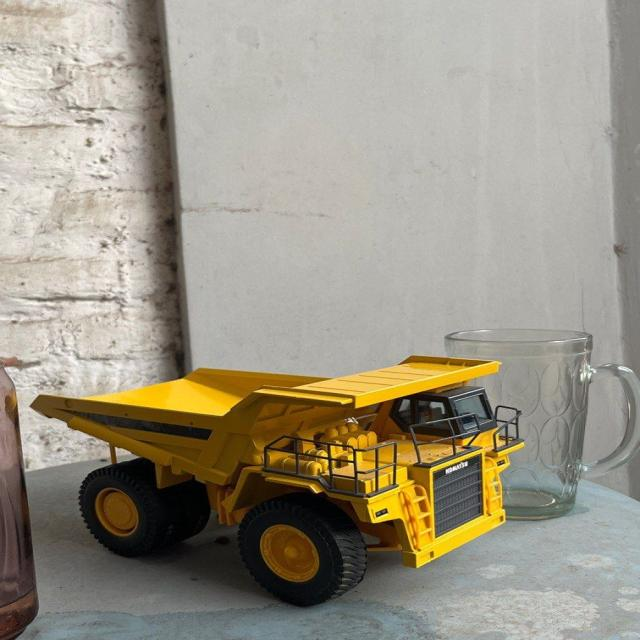dump_truck: (28, 348, 515, 605)
